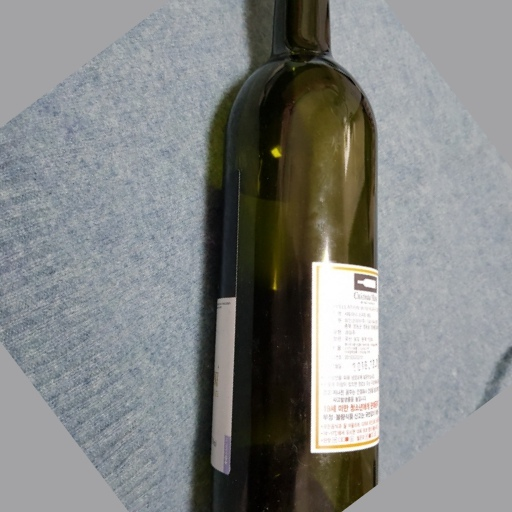Glass_2: (194, 2, 382, 512)
